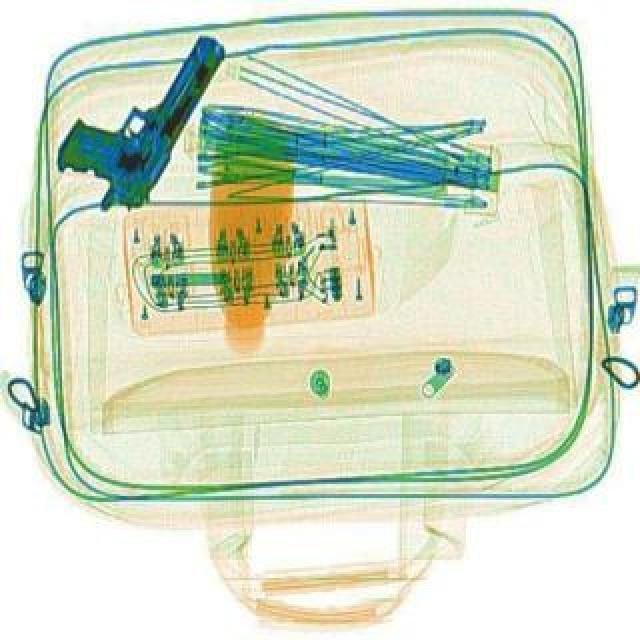gun: (40, 0, 236, 222)
